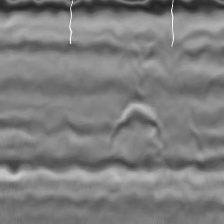Utility: (109, 103, 162, 145)
